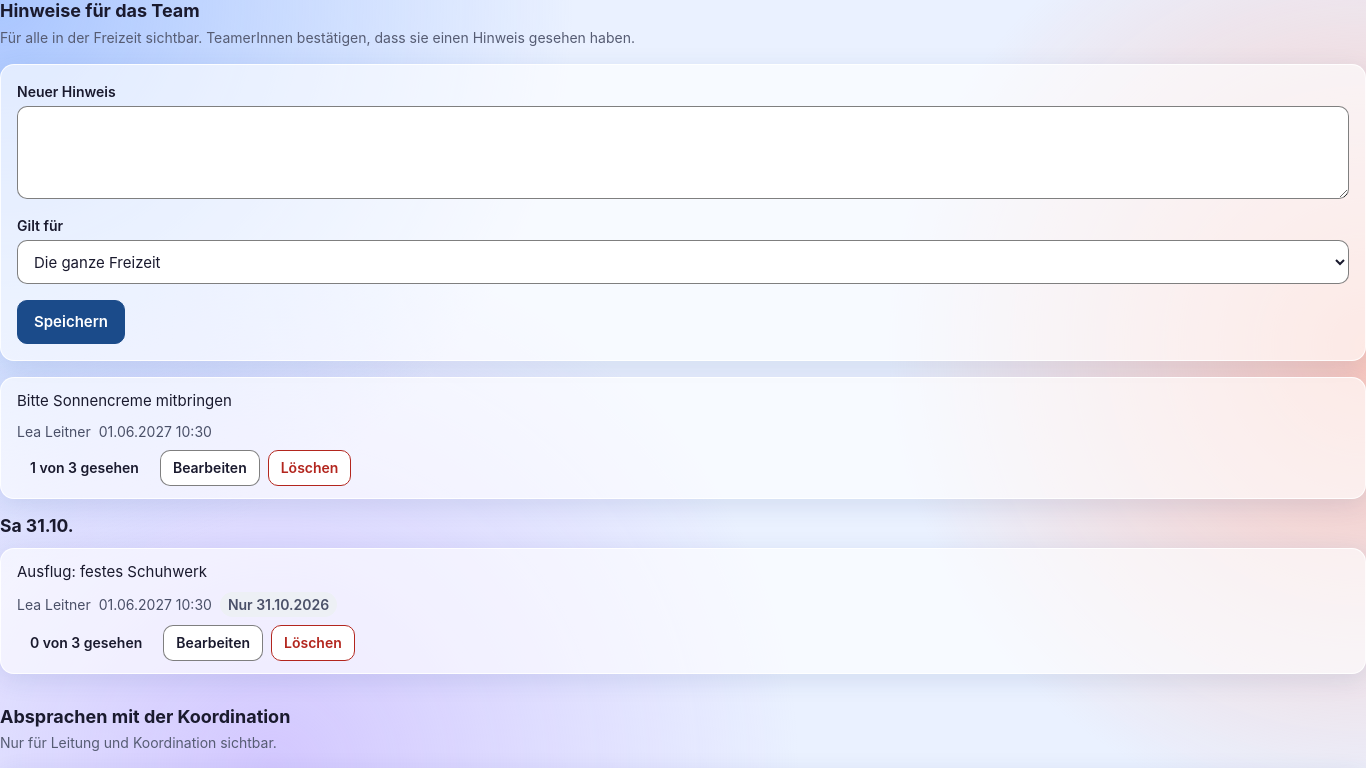
Test: Fehlerfälle › ein Fehler beim Speichern zeigt Hinweis, die Eingabe bleibt erhalten
The width and height of the screenshot is (1366, 768).
Type "Wichtig" into the text box labelled "Neuer Hinweis" at x=683, y=152, box [17,106,1349,199]
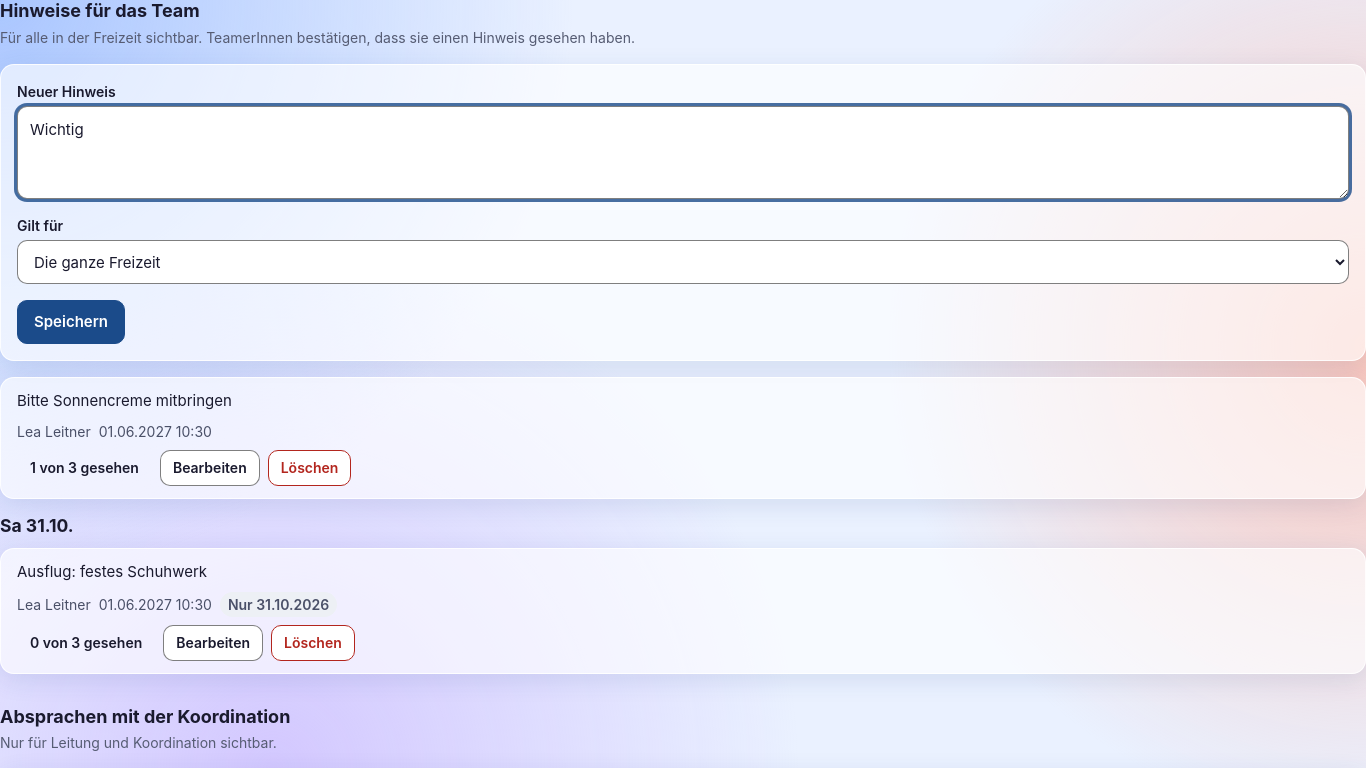
Click the button "Speichern" at x=71, y=322, box [17,300,125,344]
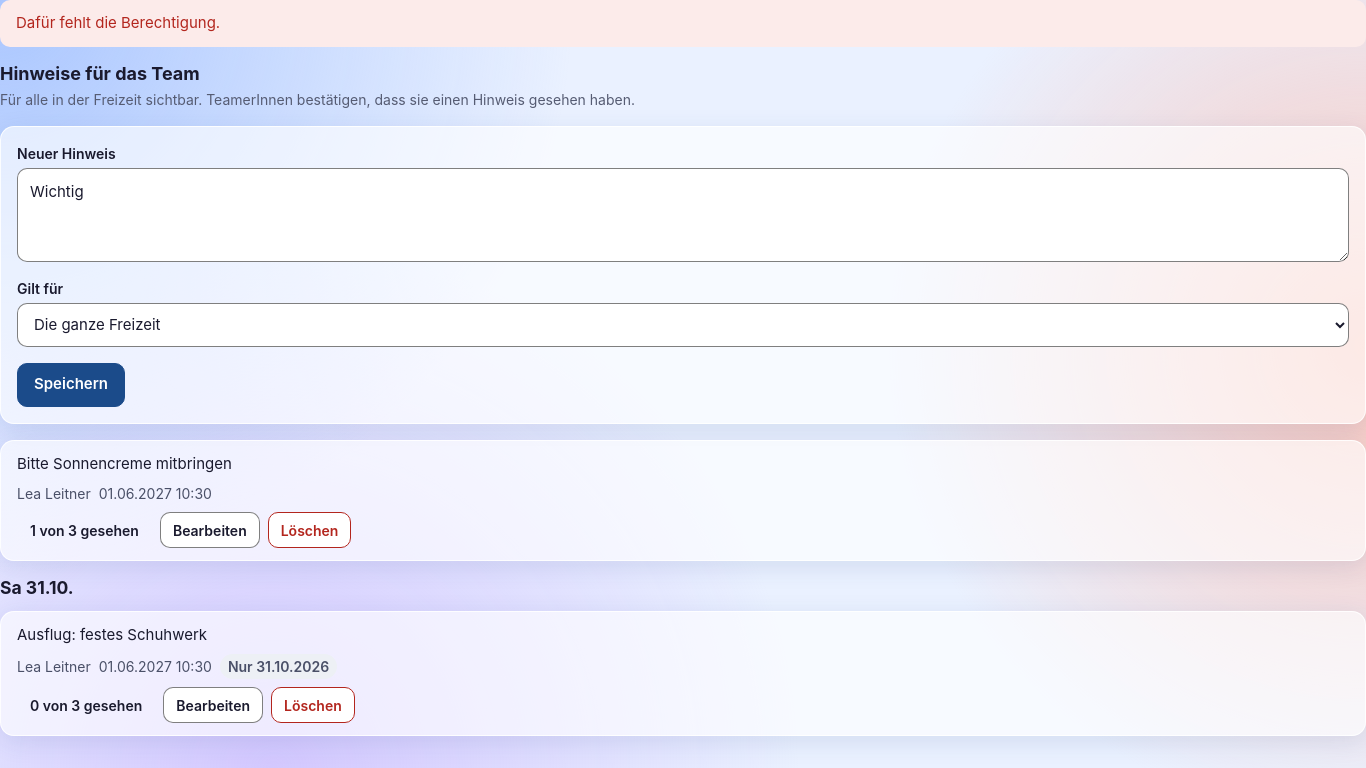
Expected: the message reads "Dafür fehlt die Berechtigung.", [16,13,220,32]
